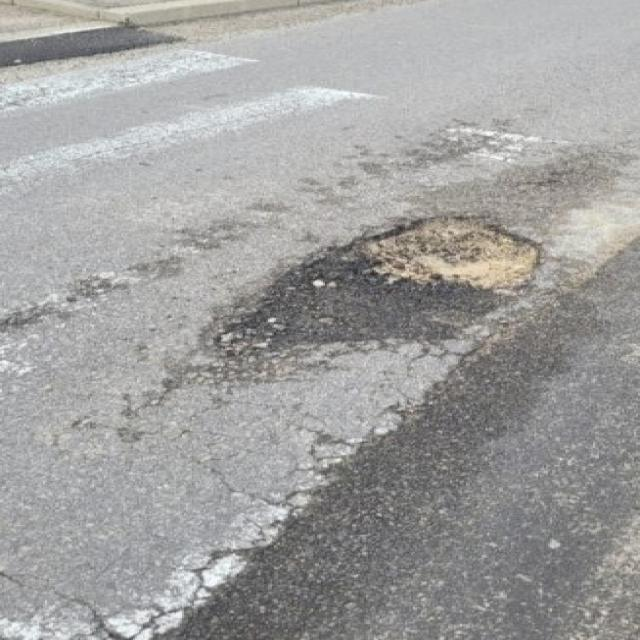major_pothole: (202, 212, 548, 355)
